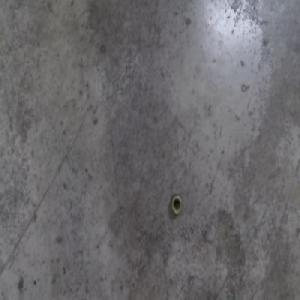Nut: (171, 193, 183, 217)
